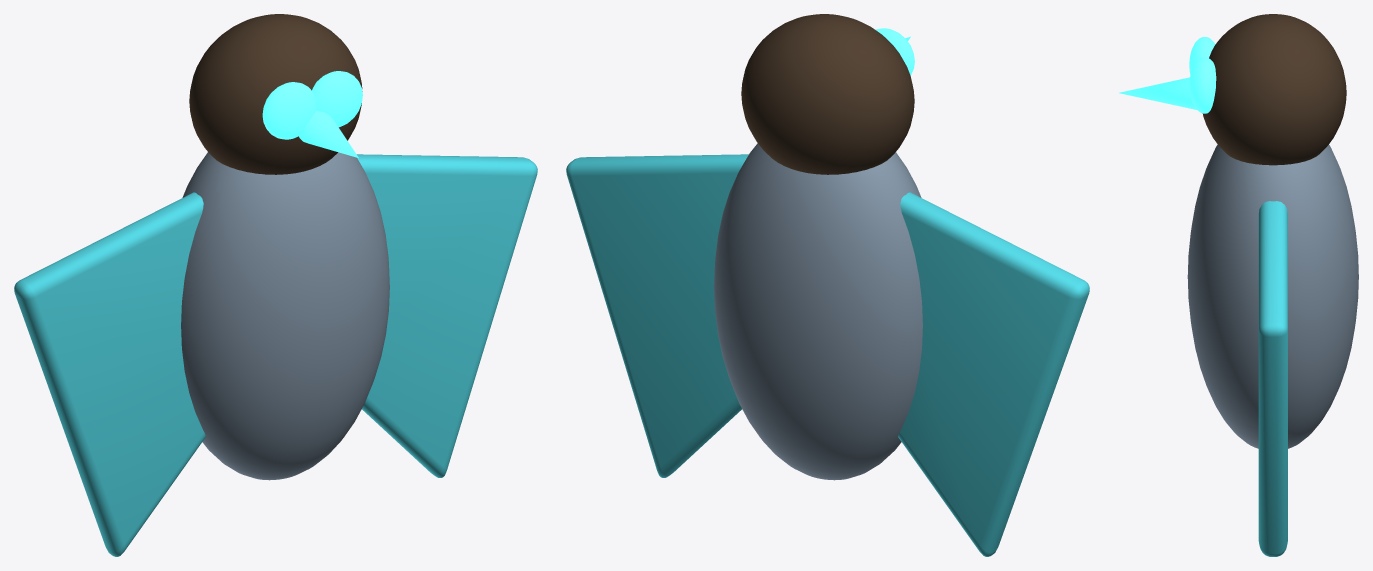
The model's file is avian_v4.glb.
3 renders of one model, left to right at view 1: azimuth 30°, elevation 25°; view 2: azimuth 150°, elevation 25°; view 3: azimuth 270°, elevation 25°, orthographic. The views are drawn at different scales.
Visible parts, largest first — view 1: RAVEN_BODY_PRIMARY, RAVEN_WING_ACCENT, RAVEN_WING_ACCENT.001, RAVEN_HEAD_SECONDARY, EYE_EMISSIVE, EYE_EMISSIVE.001, RAVEN_BEAK_EMISSIVE; view 2: RAVEN_BODY_PRIMARY, RAVEN_WING_ACCENT, RAVEN_WING_ACCENT.001, RAVEN_HEAD_SECONDARY, EYE_EMISSIVE; view 3: RAVEN_BODY_PRIMARY, RAVEN_HEAD_SECONDARY, RAVEN_WING_ACCENT.001, EYE_EMISSIVE.001, RAVEN_BEAK_EMISSIVE, EYE_EMISSIVE.
Part boxes in pixels (x1,y1,x2,y2): RAVEN_BODY_PRIMARY: (181,152,389,480); RAVEN_WING_ACCENT: (14,192,205,556); RAVEN_WING_ACCENT.001: (357,154,537,477); RAVEN_HEAD_SECONDARY: (189,14,362,174); EYE_EMISSIVE: (262,82,316,139); EYE_EMISSIVE.001: (312,71,362,127); RAVEN_BEAK_EMISSIVE: (299,110,358,158); RAVEN_BODY_PRIMARY: (714,143,922,480); RAVEN_WING_ACCENT: (898,192,1089,556); RAVEN_WING_ACCENT.001: (566,154,748,477); RAVEN_HEAD_SECONDARY: (741,14,914,174); EYE_EMISSIVE: (875,28,914,75); RAVEN_BODY_PRIMARY: (1187,144,1358,448); RAVEN_HEAD_SECONDARY: (1202,14,1346,165); RAVEN_WING_ACCENT.001: (1258,201,1287,556); EYE_EMISSIVE.001: (1189,57,1216,113); RAVEN_BEAK_EMISSIVE: (1119,77,1197,110); EYE_EMISSIVE: (1189,37,1215,74).
Size of the model in its own units: 1.77 by 1.62 by 0.7683.
